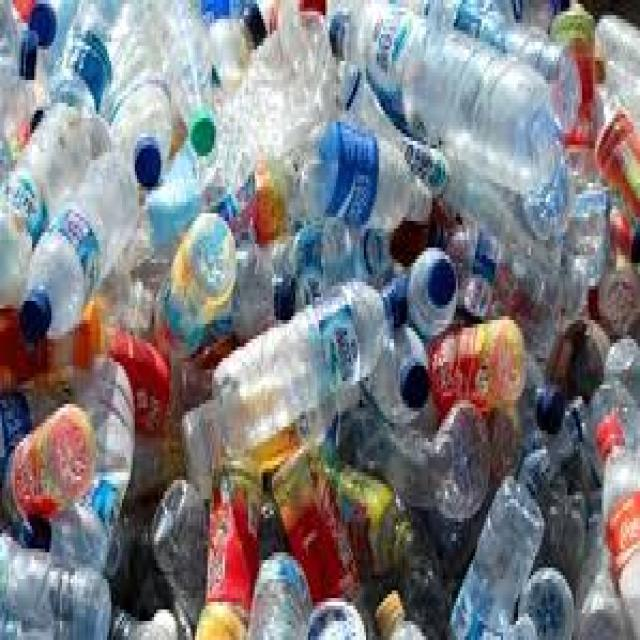plastic: (0, 0, 638, 636), (327, 0, 552, 194), (208, 271, 405, 446), (424, 145, 578, 316), (178, 366, 362, 499), (418, 0, 583, 145), (218, 8, 330, 217), (17, 148, 135, 343), (47, 351, 133, 614), (0, 305, 167, 427), (268, 446, 373, 636), (445, 217, 557, 389), (336, 389, 488, 514), (441, 469, 544, 636), (0, 99, 109, 255), (293, 118, 426, 236), (334, 57, 449, 187), (122, 149, 240, 274), (99, 0, 169, 183), (135, 0, 216, 156), (263, 213, 390, 305), (0, 530, 109, 636), (152, 210, 231, 355), (2, 392, 92, 518), (319, 454, 409, 576), (11, 0, 135, 84), (204, 228, 294, 343), (426, 305, 524, 408), (593, 415, 638, 636), (201, 446, 257, 621), (520, 450, 589, 591), (169, 8, 253, 122), (148, 473, 206, 637), (431, 214, 525, 313), (360, 320, 426, 419), (548, 11, 595, 141), (244, 545, 310, 636), (398, 511, 445, 636), (589, 96, 638, 214), (582, 377, 638, 476), (591, 11, 638, 126), (572, 537, 625, 636), (400, 244, 452, 339), (546, 313, 606, 393), (88, 244, 148, 324), (523, 392, 585, 461), (563, 179, 606, 278), (206, 160, 255, 244), (516, 564, 571, 636), (535, 240, 587, 316), (3, 73, 52, 153), (426, 507, 486, 572), (60, 34, 105, 99), (482, 400, 522, 472), (253, 153, 287, 237), (597, 271, 638, 339), (304, 587, 360, 636), (67, 297, 101, 373), (559, 145, 599, 206), (109, 598, 171, 636), (606, 335, 638, 404), (497, 0, 559, 27), (17, 286, 51, 335), (424, 251, 454, 305), (193, 602, 240, 636), (610, 198, 634, 263), (133, 129, 161, 183), (238, 0, 268, 50), (572, 461, 600, 514), (270, 267, 298, 320), (533, 381, 563, 427), (398, 358, 428, 404), (360, 229, 388, 278), (186, 107, 216, 152), (373, 583, 398, 636), (383, 274, 405, 328), (28, 0, 53, 42), (497, 610, 535, 636), (20, 23, 37, 80), (381, 610, 417, 636), (595, 411, 621, 446), (325, 8, 345, 53), (298, 0, 323, 15)
